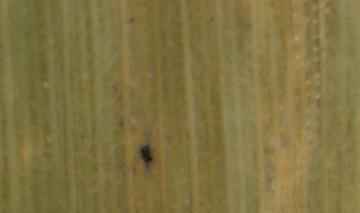tarspot: (137, 143, 154, 172), (128, 15, 136, 25)
